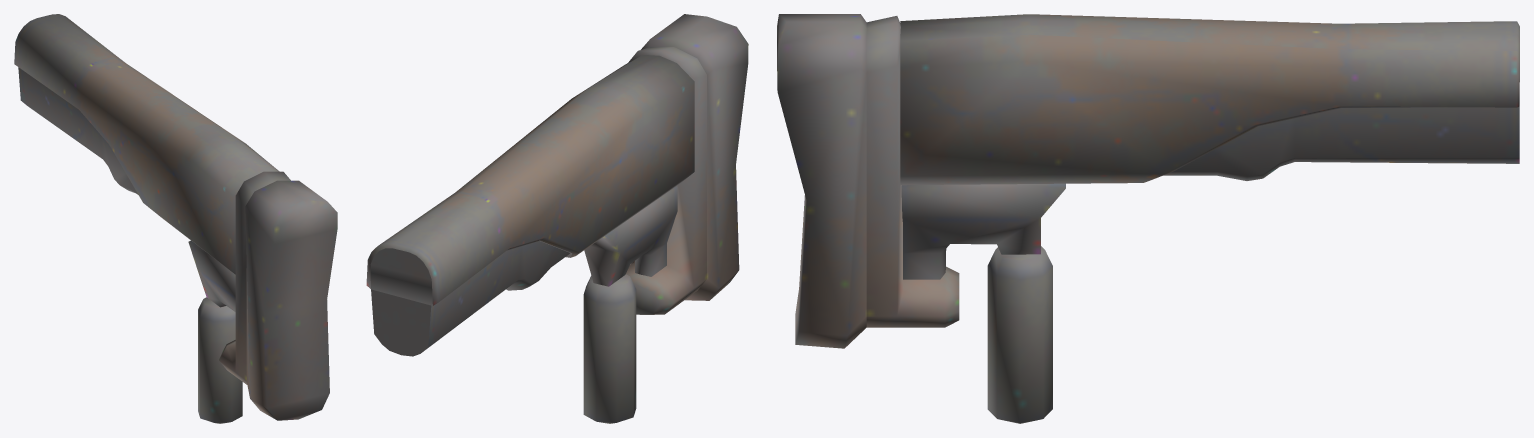
Rendered from stock5.obj.
3 renders of one model, left to right at view 1: azimuth 30°, elevation 25°; view 2: azimuth 150°, elevation 25°; view 3: azimuth 270°, elevation 25°, orthographic. The views are drawn at different scales.
Parts seen in each view (by area): view 1: stock5; view 2: stock5; view 3: stock5.
Boxes of the visible parts, x1,y1,x2,y2 form: stock5: (14, 14, 337, 423); stock5: (366, 14, 748, 423); stock5: (777, 14, 1519, 423).
Bounding box in the file's own units: 4.68 × 20.32 × 33.9.
